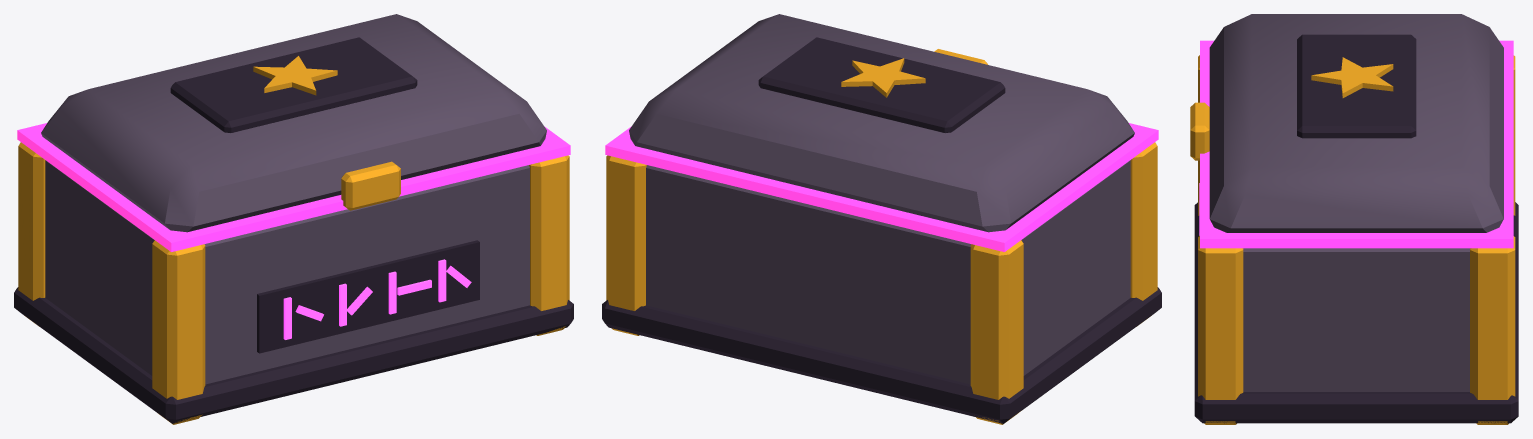
The model's file is chest__lower.glb.
3 renders of one model, left to right at view 1: azimuth 30°, elevation 25°; view 2: azimuth 150°, elevation 25°; view 3: azimuth 270°, elevation 25°, orthographic.
Parts seen in each view (by area): view 1: Body, Lid; view 2: Body, Lid; view 3: Lid, Body.
Boxes of the visible parts, x1,y1,x2,y2 form: Body: [14, 142, 573, 424]; Lid: [17, 14, 570, 251]; Body: [602, 142, 1161, 424]; Lid: [605, 14, 1158, 251]; Lid: [1190, 14, 1513, 248]; Body: [1194, 55, 1518, 424].
Size of the model in its own units: 0.74 by 0.431 by 0.507.
